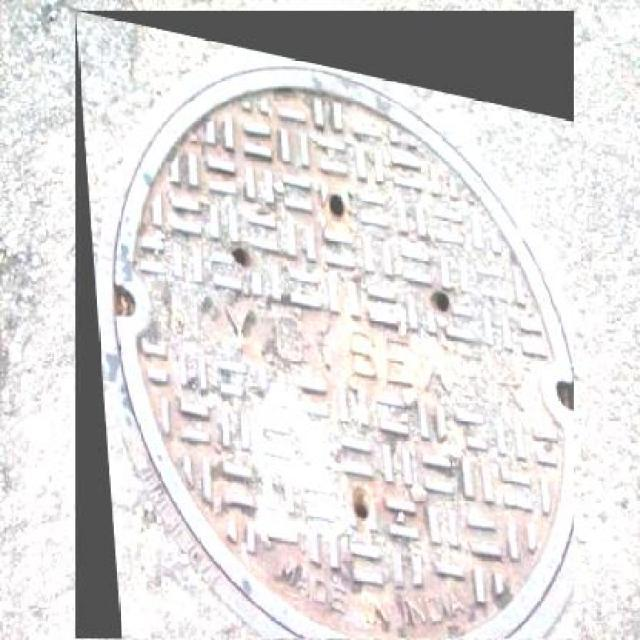Manhole: (75, 11, 574, 638)
